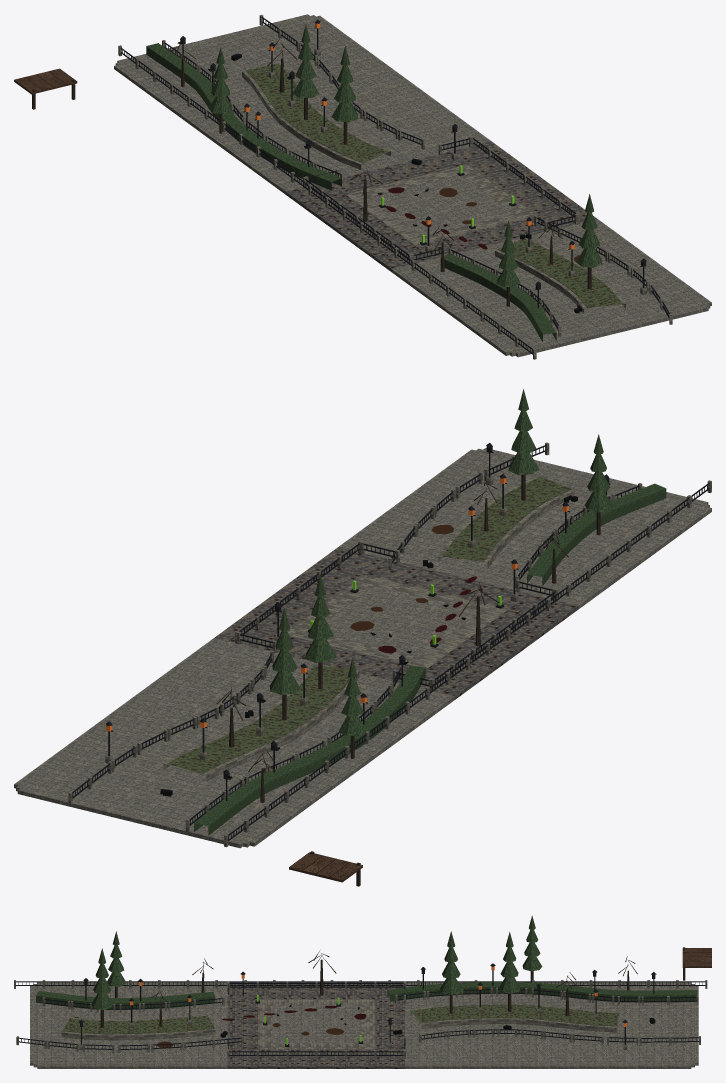
Rendered from Maribor_Route_B.fbx.
The picture shows the model from 3 angles, top to bottom: view 1: azimuth 30°, elevation 25°; view 2: azimuth 150°, elevation 25°; view 3: azimuth 270°, elevation 25°; orthographic projection. The views are drawn at different scales.
Visible parts, largest first — view 1: PL_B_Ground_081, PL_B_Ground_083, PL_B_Ground_082, PL_B_City_070, PL_B_City_072, PL_B_City_078, PL_B_City_076, PL_B_City_077, PL_B_Ground_084, PL_B_City_071, PL_B_City_073, PL_B_City_079 (+3 smaller); view 2: PL_B_Ground_081, PL_B_Ground_083, PL_B_Ground_082, PL_B_City_070, PL_B_City_072, PL_B_City_078, PL_B_City_076, PL_B_City_077, PL_B_City_071, PL_B_City_073, PL_B_City_080, PL_B_City_079 (+3 smaller); view 3: PL_B_Ground_081, PL_B_Ground_083, PL_B_Ground_082, PL_B_City_070, PL_B_City_072, PL_B_City_078, PL_B_City_076, PL_B_City_077, PL_B_City_071, PL_B_City_073, PL_B_City_079, PL_B_City_075 (+3 smaller).
Boxes of the visible parts, x1,y1,x2,y2 form: PL_B_Ground_081: (114, 14, 491, 194); PL_B_Ground_083: (391, 213, 711, 355); PL_B_Ground_082: (285, 141, 596, 271); PL_B_City_070: (146, 24, 390, 190); PL_B_City_072: (495, 194, 672, 324); PL_B_City_078: (440, 220, 583, 359); PL_B_City_076: (273, 140, 431, 245); PL_B_City_077: (375, 216, 518, 308); PL_B_Ground_084: (510, 303, 710, 357); PL_B_City_071: (71, 36, 275, 106); PL_B_City_073: (462, 187, 609, 264); PL_B_City_079: (411, 124, 541, 206); PL_B_Ground_081: (14, 637, 454, 848); PL_B_Ground_083: (338, 449, 711, 611); PL_B_Ground_082: (215, 547, 578, 699); PL_B_City_070: (163, 573, 425, 835); PL_B_City_072: (432, 389, 574, 568); PL_B_City_078: (527, 434, 711, 586); PL_B_City_076: (378, 582, 530, 714); PL_B_City_077: (428, 502, 631, 625); PL_B_City_071: (160, 718, 314, 874); PL_B_City_073: (317, 478, 497, 602); PL_B_City_080: (289, 852, 362, 886); PL_B_City_079: (234, 573, 383, 652); PL_B_Ground_081: (404, 982, 698, 1068); PL_B_Ground_083: (37, 982, 272, 1068); PL_B_Ground_082: (228, 982, 404, 1068); PL_B_City_070: (387, 915, 697, 1032); PL_B_City_072: (16, 948, 215, 1052); PL_B_City_078: (14, 931, 215, 1018); PL_B_City_076: (273, 951, 444, 1019); PL_B_City_077: (129, 958, 286, 1025); PL_B_City_071: (588, 956, 707, 1023); PL_B_City_073: (151, 990, 289, 1058); PL_B_City_079: (288, 1018, 405, 1058); PL_B_City_075: (419, 1025, 571, 1042).
Size of the model in its own units: 38.5 by 15.48 by 94.98.
